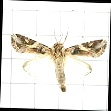Spodoptera litura: (9, 25, 107, 93)
